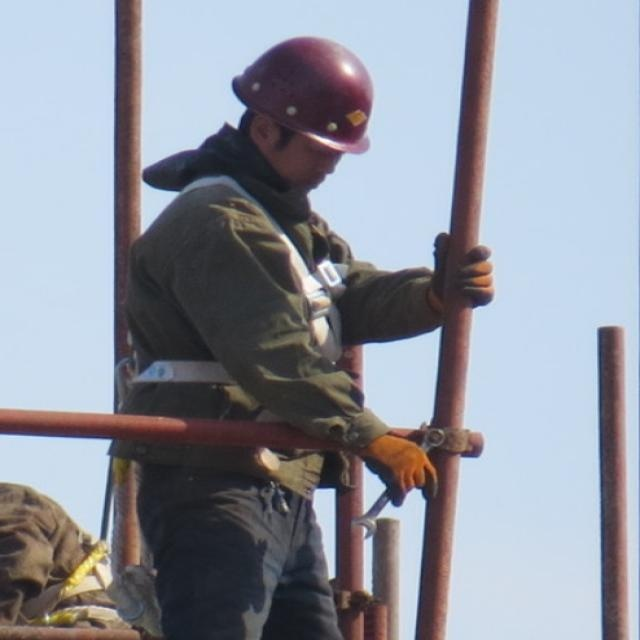Arnes_seguridad: (118, 165, 364, 404)
